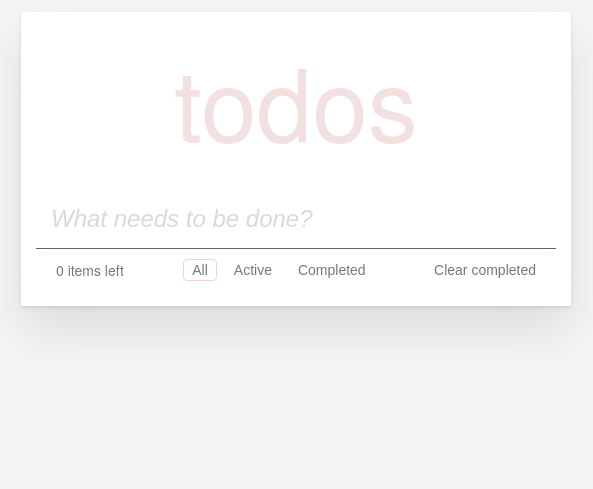
Test case: ToDo App › filters active tasks
Type "Task A" into the field with placeholder "What needs to be done?" at (296, 219), box [36, 190, 556, 248]
Then press Enter
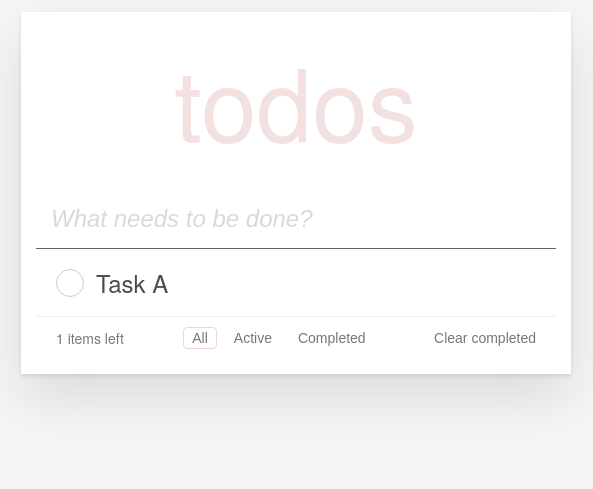
Type "Task B" into the field with placeholder "What needs to be done?" at (296, 219), box [36, 190, 556, 248]
Then press Enter
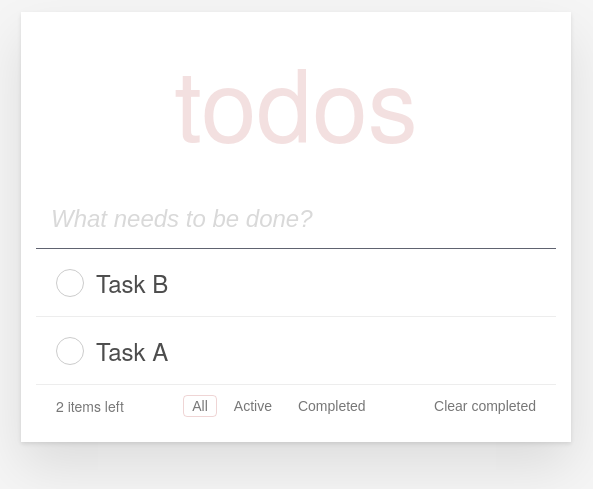
Click the list item "Task A" at (296, 351), box [36, 317, 556, 385]
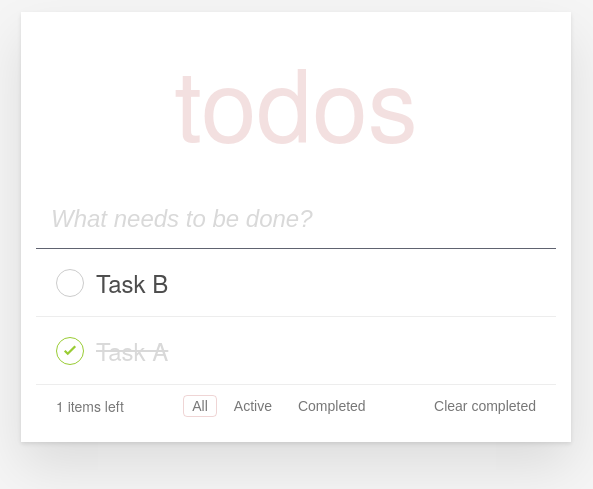
Click the button "Active" at (253, 406), box [225, 395, 281, 417]
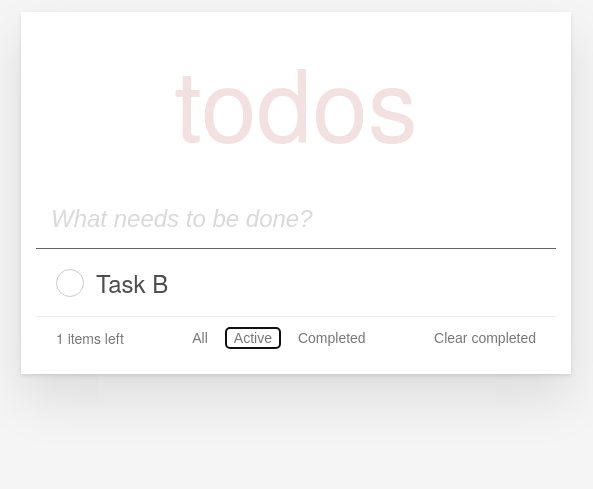
expect the list item "Task B" is shown: met, box [36, 249, 556, 317]
expect the list item "Task A" is gone: met
